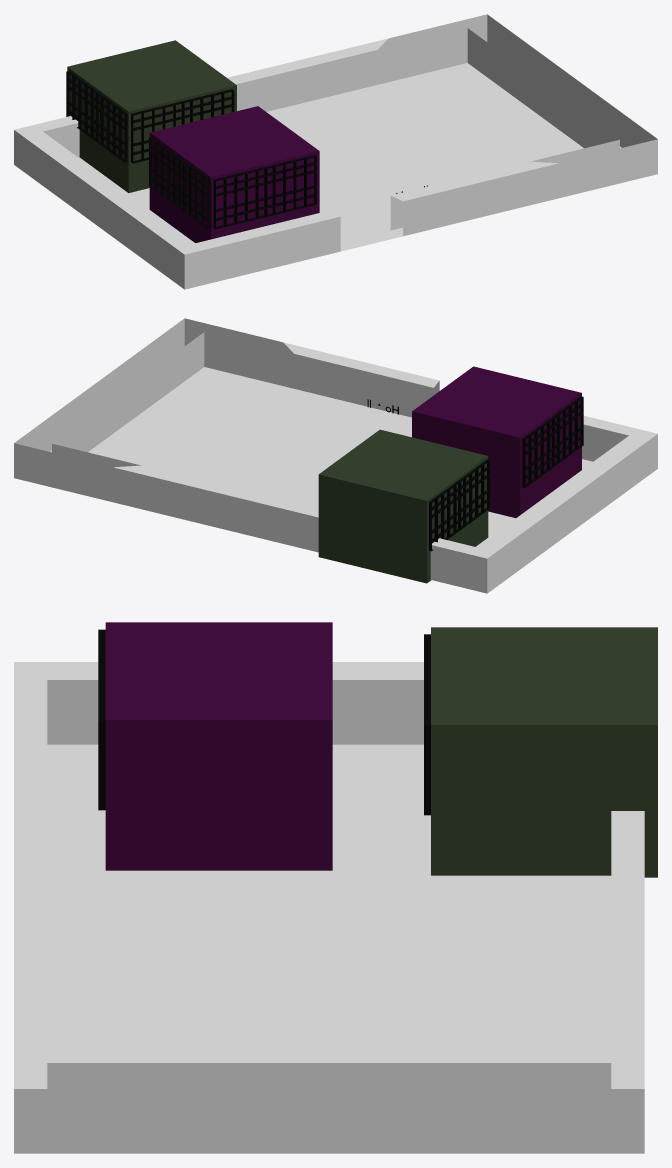
The model's file is HostelE.fbx.
The picture shows the model from 3 angles, top to bottom: view 1: azimuth 30°, elevation 25°; view 2: azimuth 150°, elevation 25°; view 3: azimuth 270°, elevation 25°; orthographic projection. The views are drawn at different scales.
Parts seen in each view (by area): view 1: Cube, Cube.003, Cube.006, Cube.004, Cube.005, Cube.001, Cube.002; view 2: Cube, Cube.006, Cube.003, Cube.005, Cube.001; view 3: Cube, Cube.003, Cube.006, Cube.004, Cube.002.
Boxes of the visible parts, box(x1,y1,x2,y2) form: Cube: box(14, 14, 657, 289); Cube.003: box(149, 106, 319, 242); Cube.006: box(67, 40, 236, 192); Cube.004: box(213, 155, 316, 229); Cube.005: box(149, 136, 210, 228); Cube.001: box(66, 71, 127, 162); Cube.002: box(131, 89, 234, 163); Cube: box(14, 318, 657, 593); Cube.006: box(318, 429, 488, 583); Cube.003: box(412, 366, 581, 517); Cube.005: box(522, 396, 583, 487); Cube.001: box(429, 459, 489, 551); Cube: box(14, 662, 644, 1153); Cube.003: box(105, 622, 332, 870); Cube.006: box(431, 627, 657, 877); Cube.004: box(98, 629, 105, 810); Cube.002: box(424, 634, 430, 815).
Bounding box in the file's own units: 8596 × 1442 × 5481.
